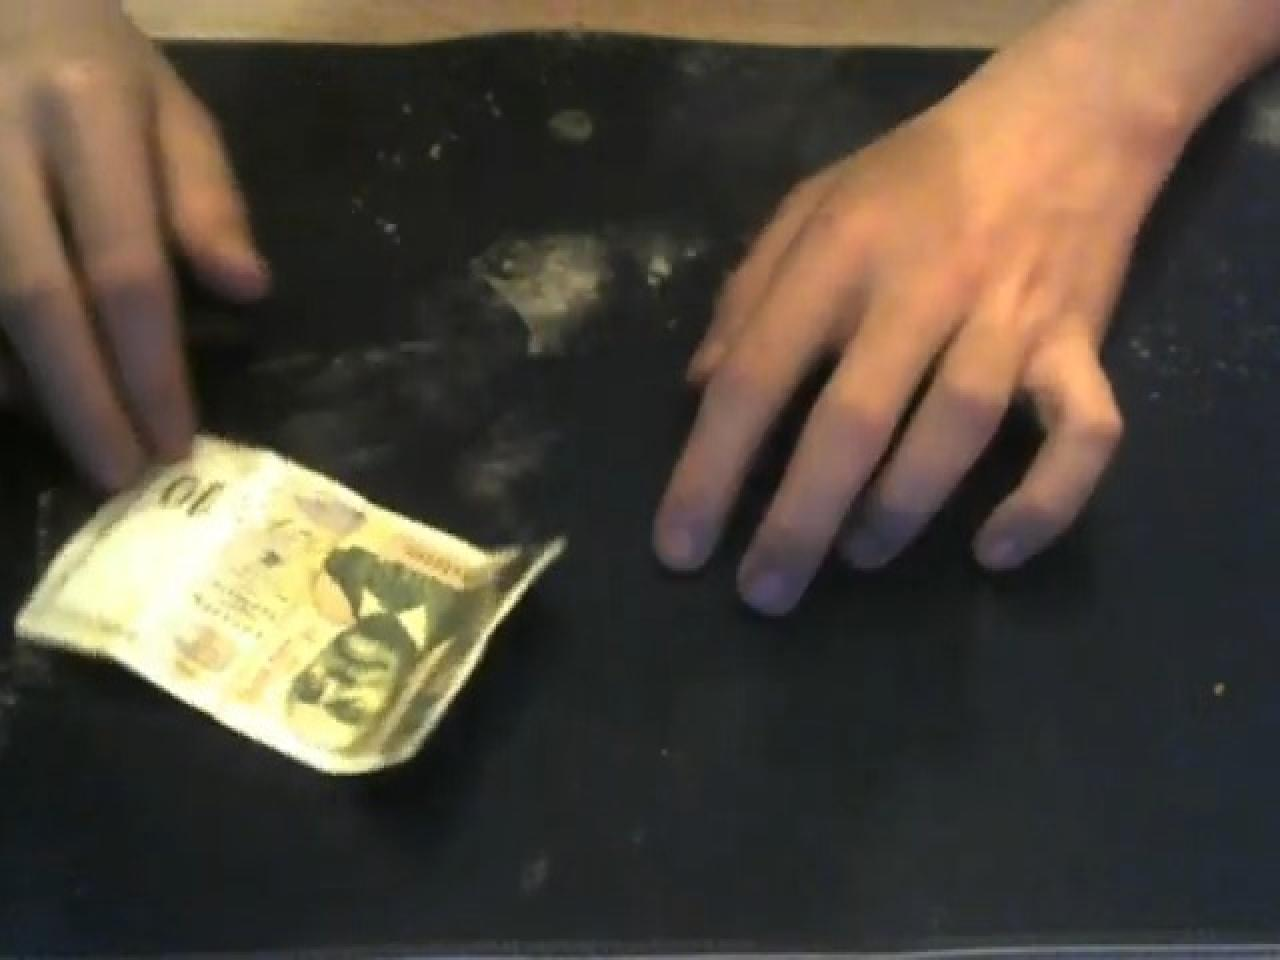10leva: (14, 438, 566, 782)
